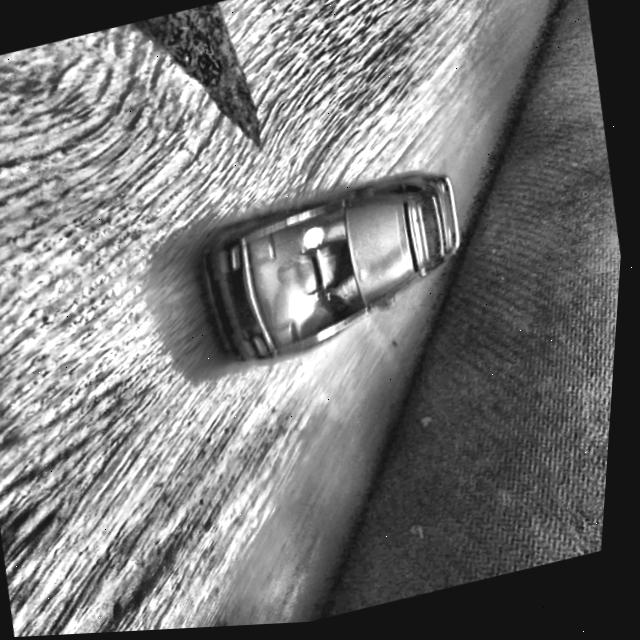car: (189, 167, 484, 378)
